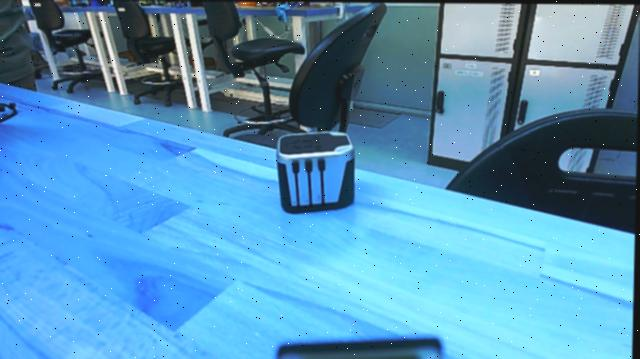adapter: (272, 124, 364, 224)
